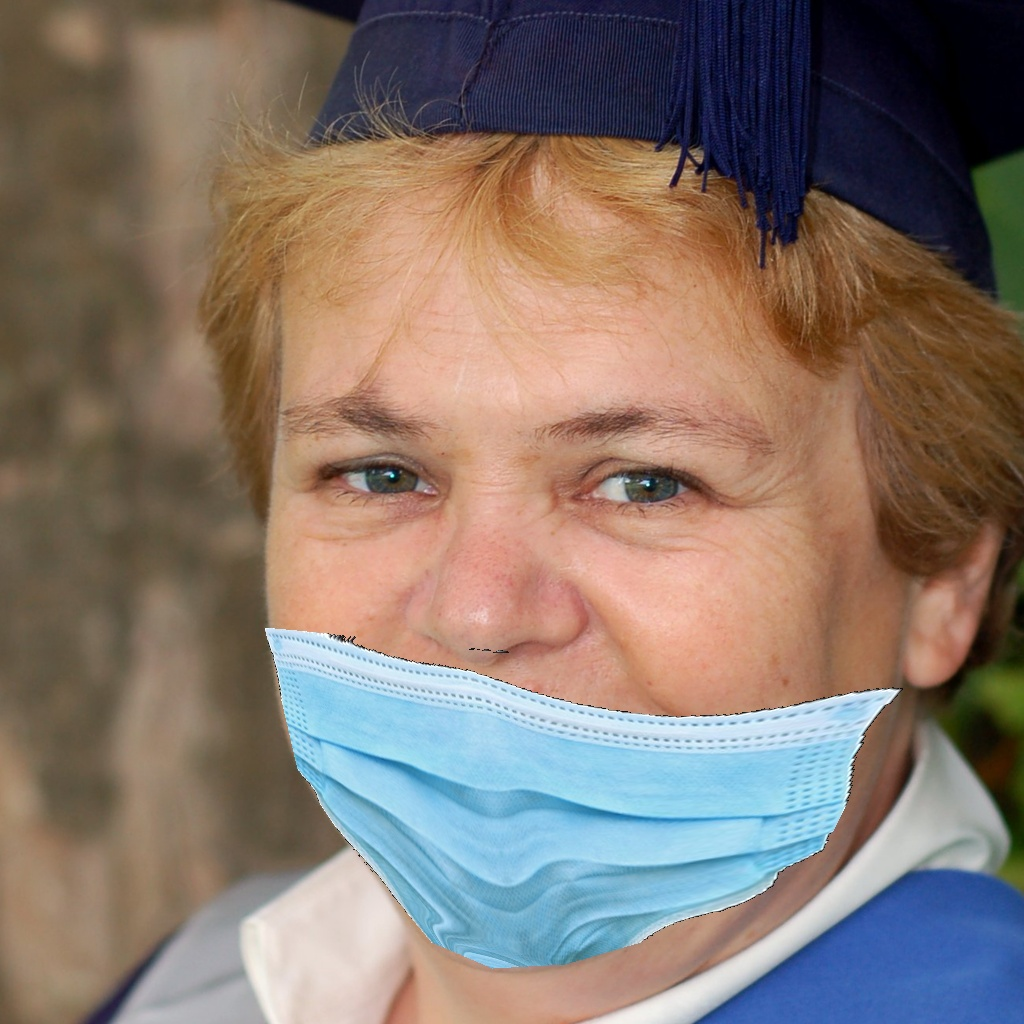mascarilla_mal_puesta: (244, 350, 869, 965)
